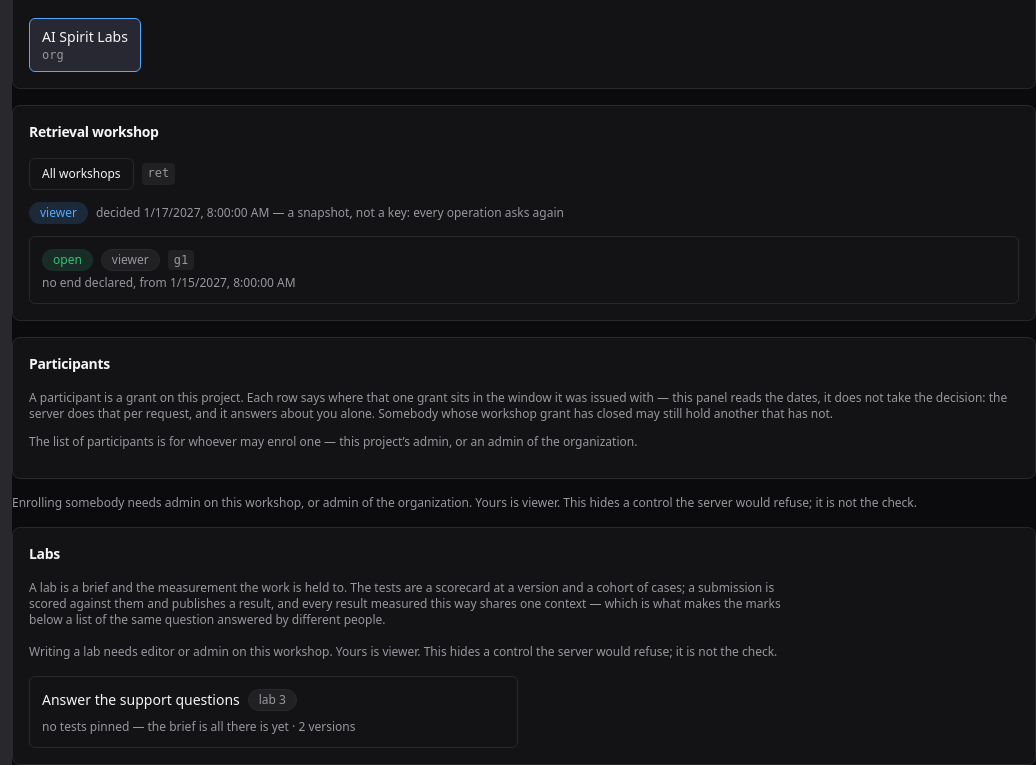
Test case: says in the server's words why a lab has no measurement, and shows no marks
(page scrolled)
Click the button "Answer the support": (274, 712) [29,676,518,748]
(page scrolled)
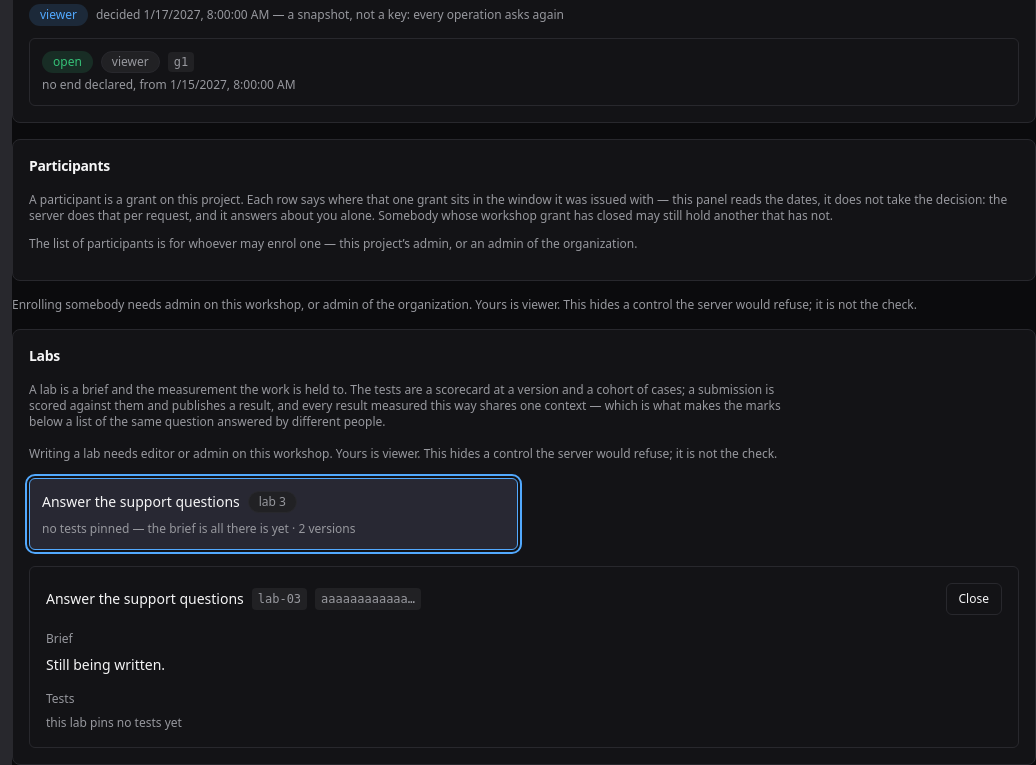
Expected: the text "this lab pins no tests yet" is shown, [46,714,182,731]
